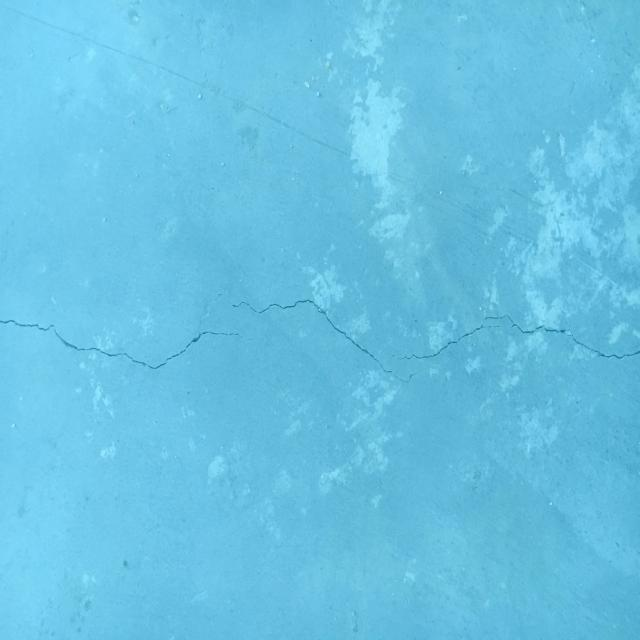crack: (214, 292, 431, 382), (0, 318, 256, 370), (380, 314, 640, 361)
